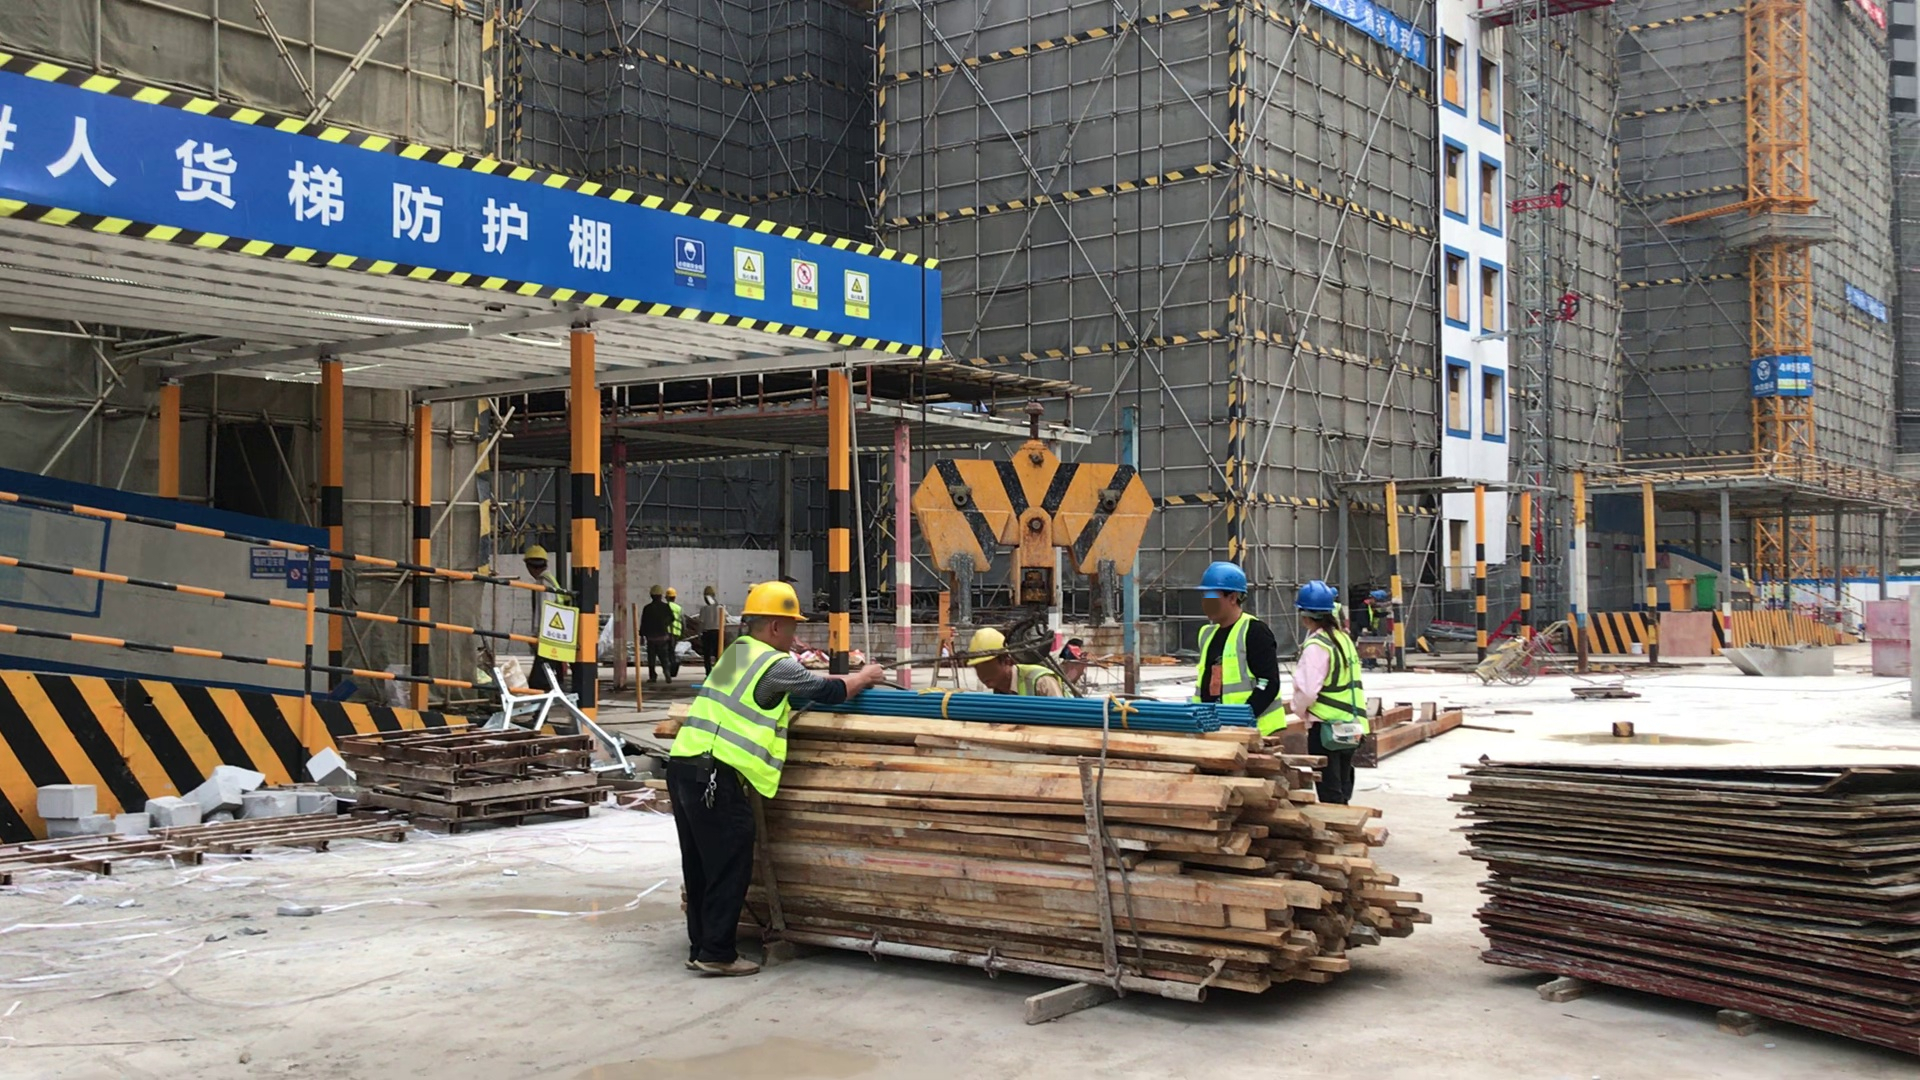board: (1445, 731, 1920, 1069)
helmet: (737, 582, 807, 620), (1193, 562, 1249, 597), (967, 624, 1010, 664), (1290, 579, 1336, 610), (524, 542, 550, 561), (646, 585, 678, 599), (1368, 588, 1391, 599), (700, 585, 717, 600)
hook: (903, 433, 1155, 617)
hopper: (1708, 638, 1842, 684)
person: (665, 579, 887, 983), (1290, 580, 1371, 816), (1190, 560, 1290, 745), (961, 626, 1084, 705), (521, 538, 569, 696), (636, 583, 675, 688), (697, 584, 726, 677), (1363, 589, 1396, 654), (666, 584, 683, 657)
slogan: (7, 53, 952, 388), (1339, 5, 1431, 59)
vest: (665, 630, 800, 802), (1295, 626, 1372, 725), (1188, 614, 1258, 717)
wood: (733, 682, 1433, 1006)
